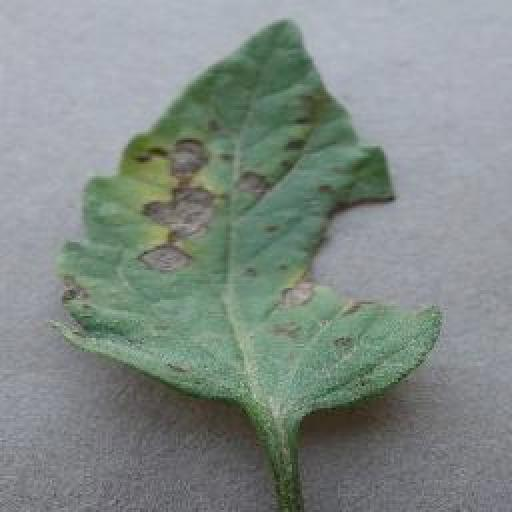disease_tomato: (58, 18, 442, 426)
